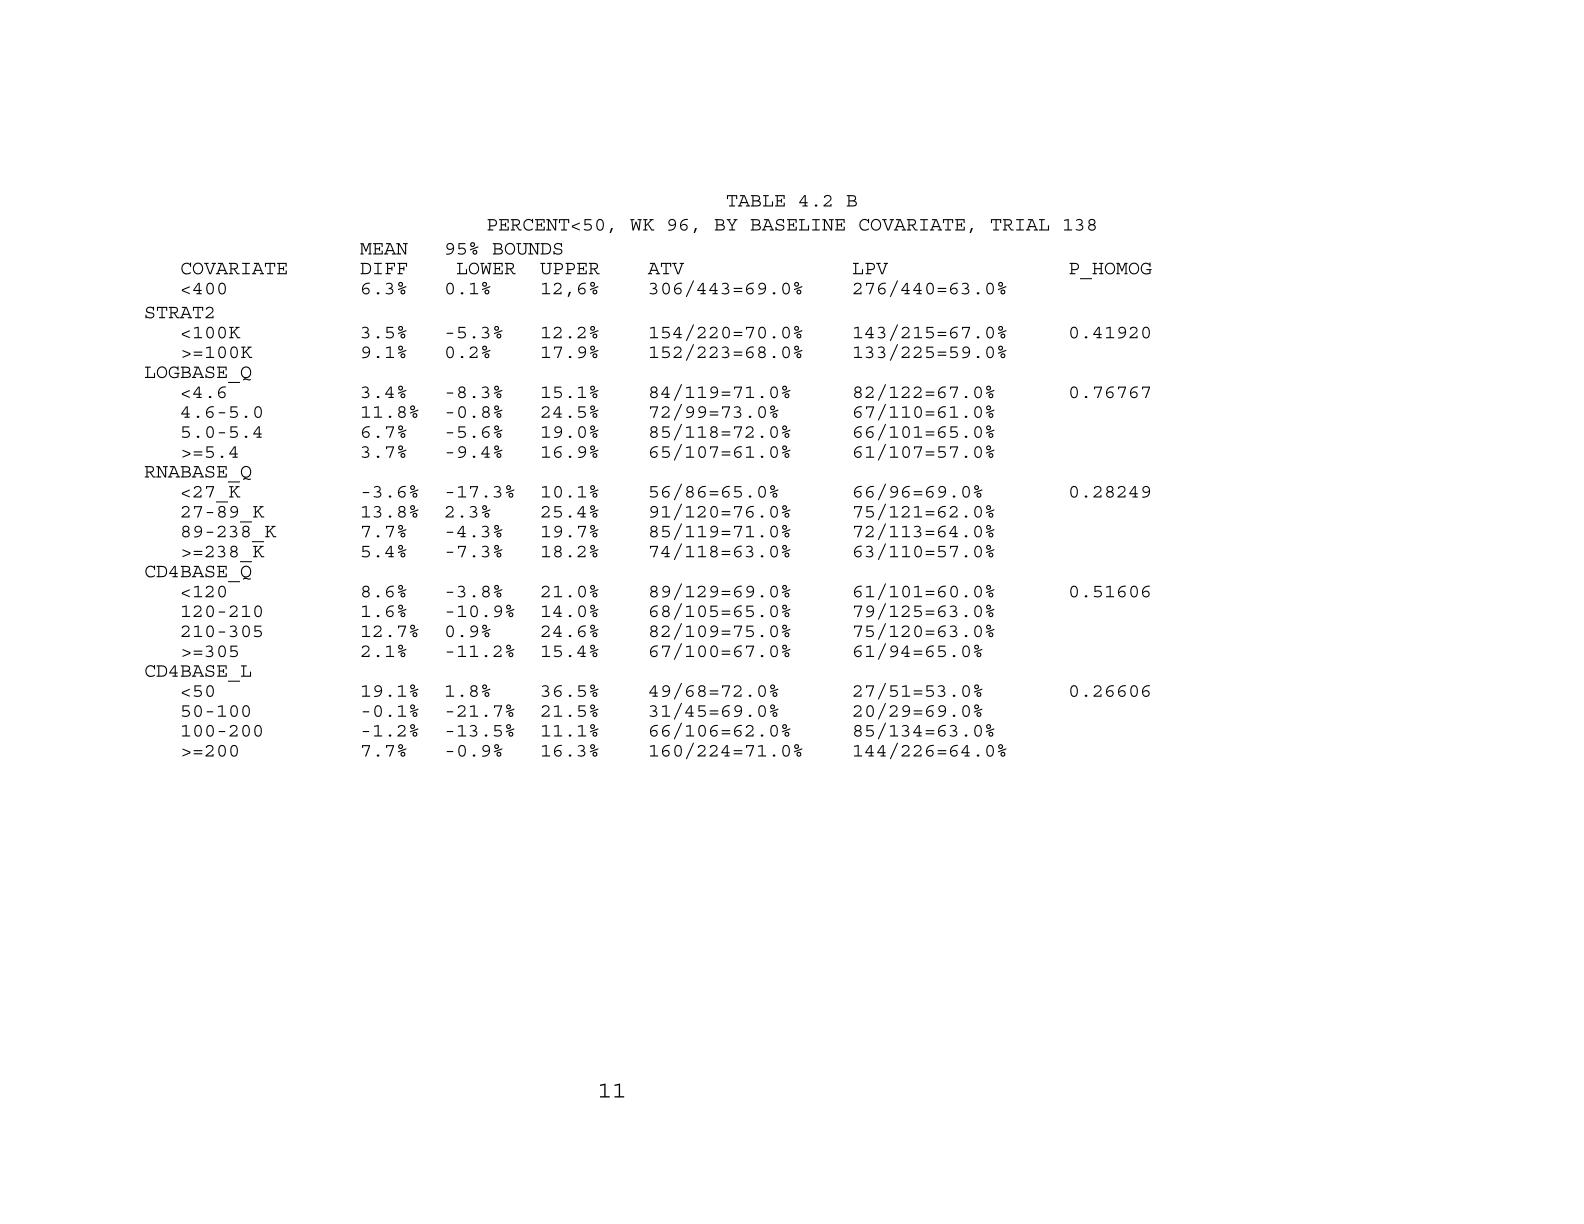nolines: (147, 240, 1151, 760)
